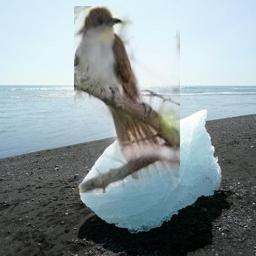Cuckoo: (74, 6, 180, 193)
